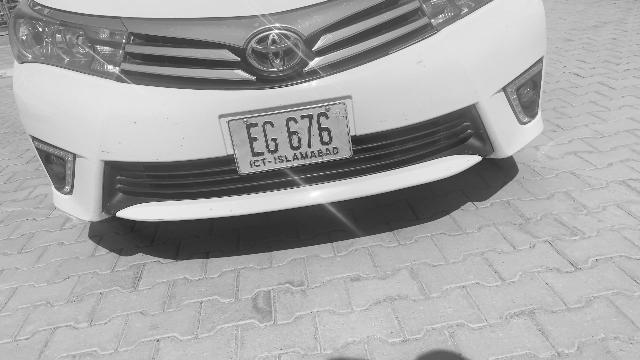Number: (242, 108, 338, 159)
